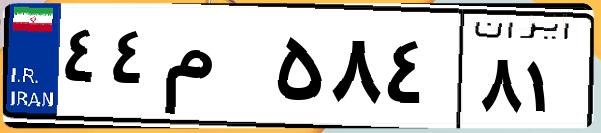1: (525, 38, 570, 115)
4: (385, 28, 445, 110), (57, 26, 110, 100), (110, 28, 158, 98)
5: (270, 28, 330, 110)
8: (330, 28, 385, 110), (475, 38, 525, 113)
م: (158, 20, 270, 120)
